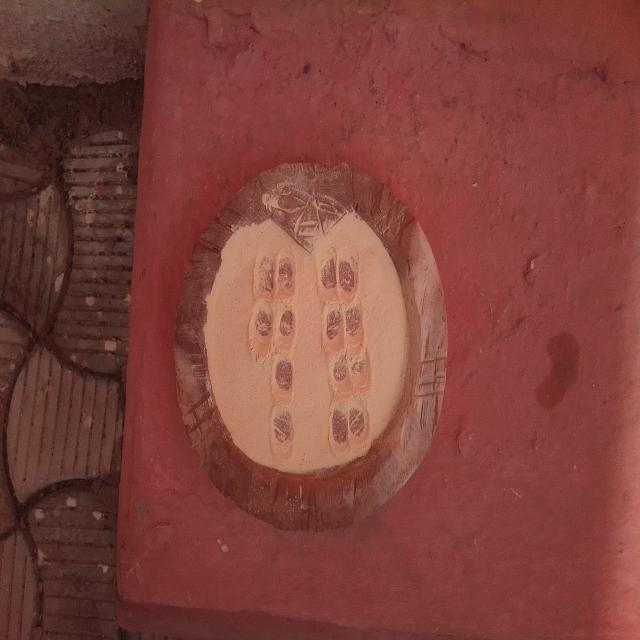double: (246, 300, 298, 354), (329, 394, 371, 454), (321, 296, 366, 351), (252, 243, 296, 299), (316, 246, 360, 300), (326, 350, 373, 396)
single: (270, 404, 297, 464), (270, 353, 296, 404)
